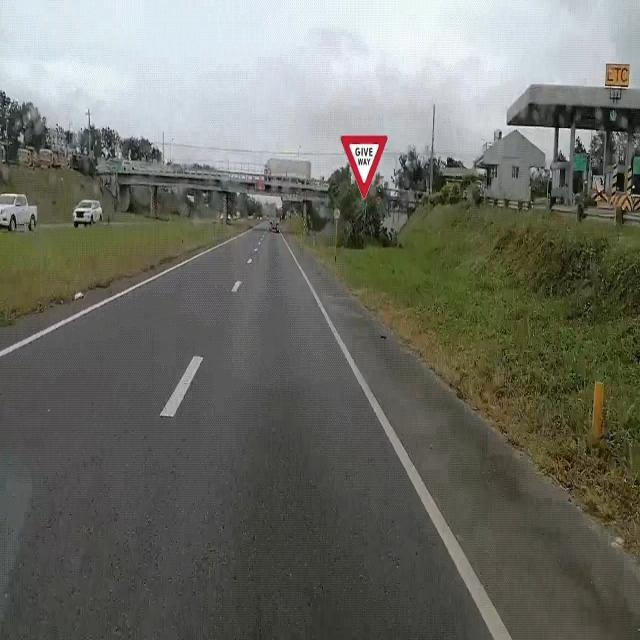Ceder-le-Passage: (339, 126, 393, 203)
